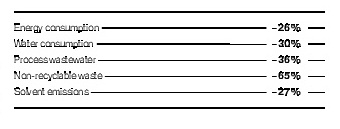table: (0, 0, 340, 129)
